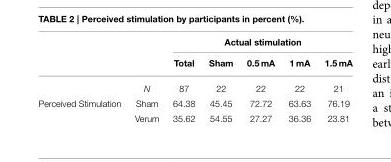table: (37, 37, 351, 122)
table column: (37, 37, 127, 122), (239, 37, 280, 122), (127, 37, 165, 122), (201, 37, 239, 122), (165, 37, 201, 122), (280, 37, 316, 122), (316, 37, 351, 122)
table column header: (37, 37, 351, 75)
table row: (37, 52, 351, 75), (37, 75, 351, 95), (37, 37, 351, 52), (37, 95, 351, 110), (37, 110, 351, 122)
table spanning cell: (165, 37, 351, 52), (37, 95, 127, 122)
